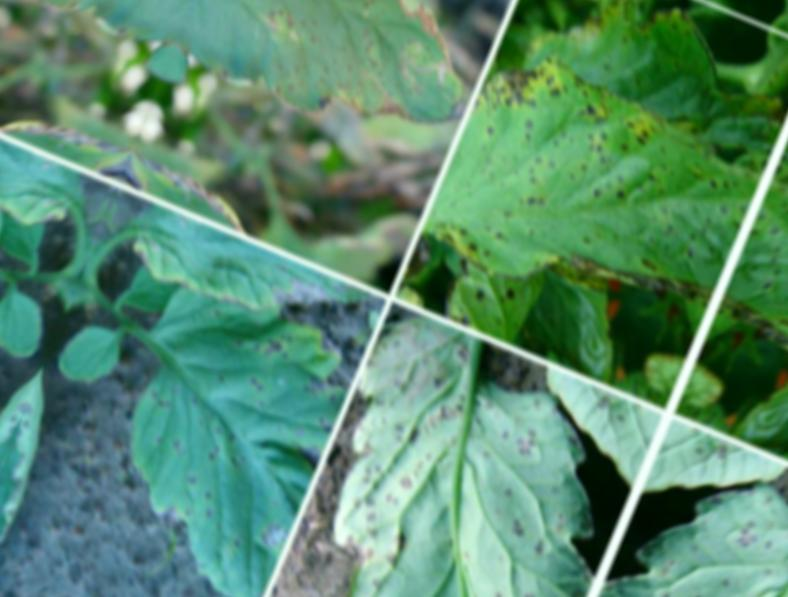Tomato leaf bacterial spot: (408, 35, 766, 370), (26, 259, 360, 597), (250, 321, 652, 597), (174, 0, 504, 189)
